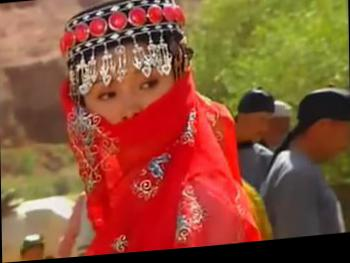WRONG: (87, 52, 182, 162)
